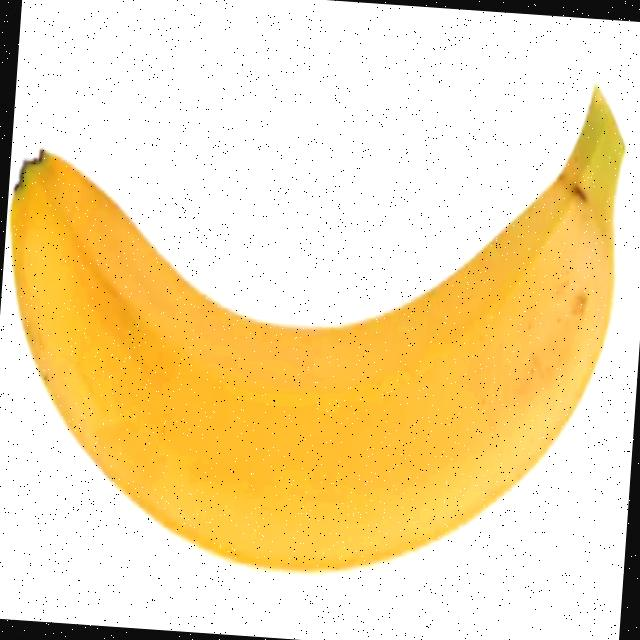Ripe: (0, 17, 640, 600)
